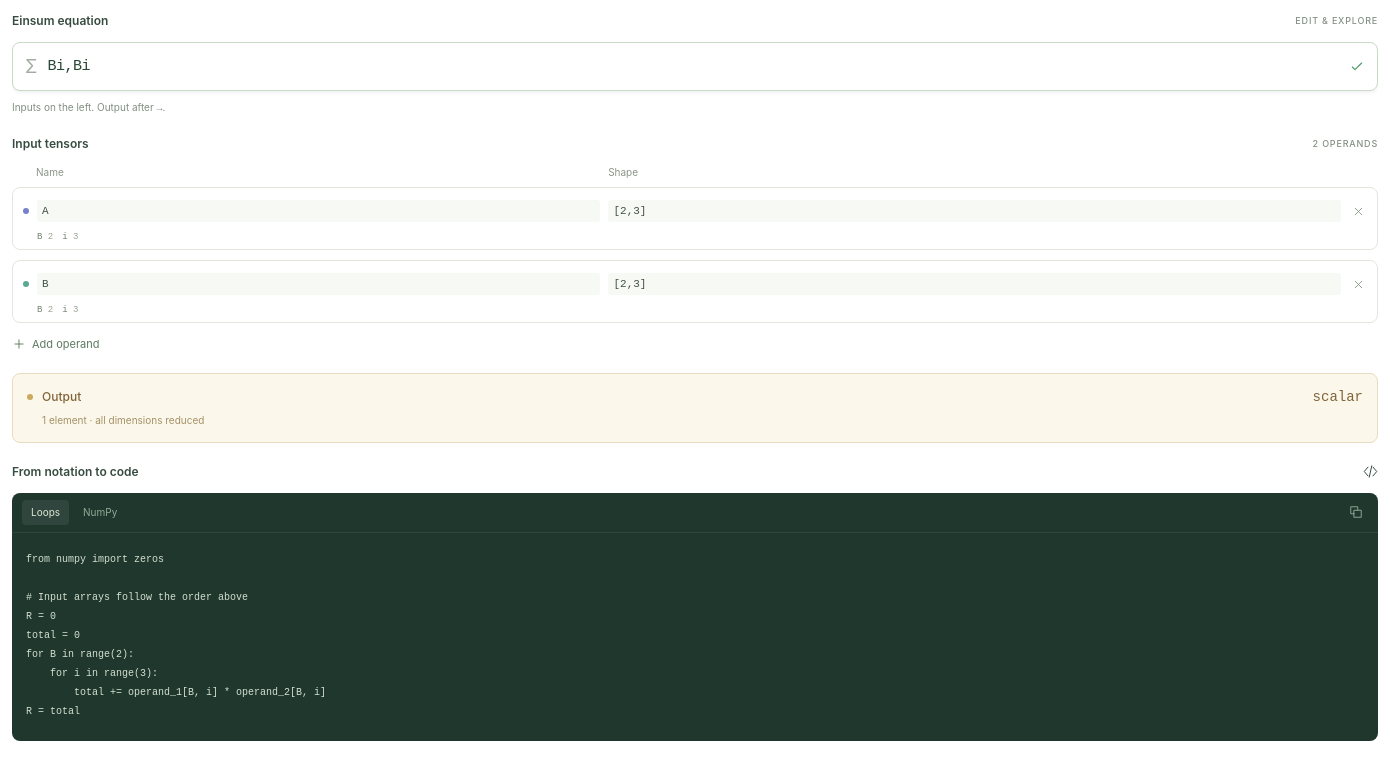
EinsumDemoApp › keeps generated array names separate from batch indices and preserves implicit scalar reductions
Expected: the text "for B in range" shows "operand_2[B, i]", [26,554,326,716]
Expected: the text "for B in range" shows "from numpy import zeros", [26,554,326,716]
Click the button "NumPy": (100, 512) [74,500,126,524]
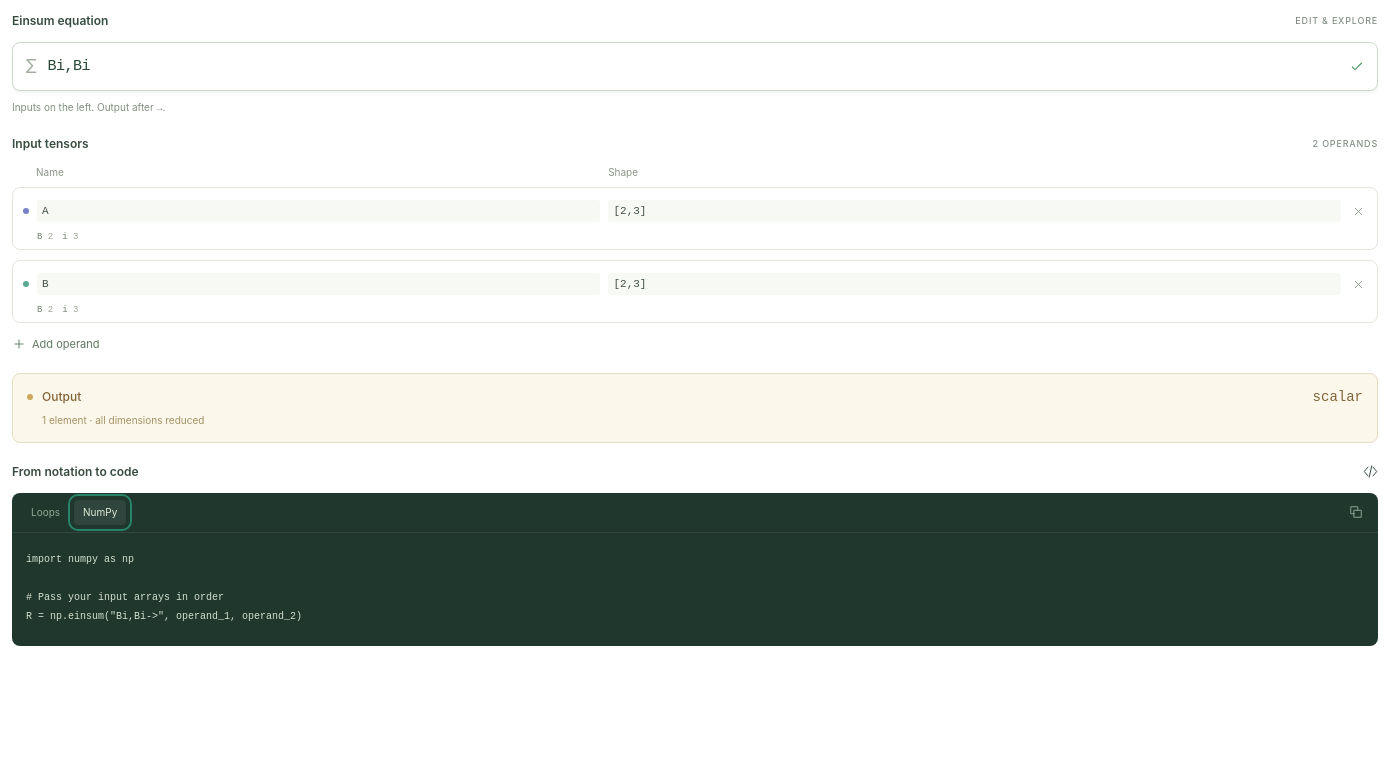
Now the text "np.einsum" shows "np.einsum(\"Bi,Bi->\", operand_1, operand_2)", box [26,554,302,622]
